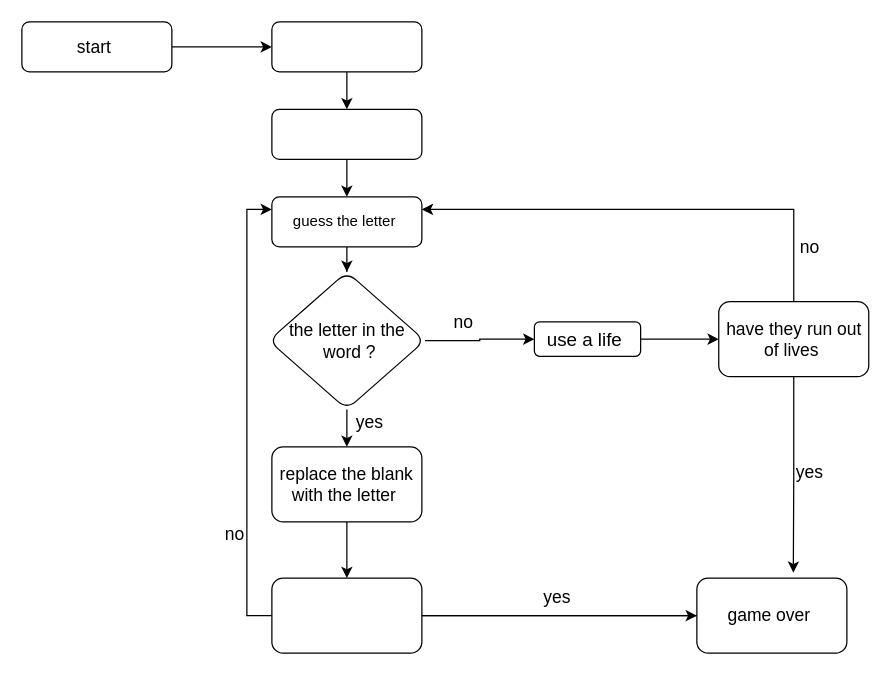
The diagram is 891 pixels wide and 675 high, and some of its shapes have lost their labels. The shapes that lost their labels are listed below. From the top down, each one's box as (x1, y1, x2, y2) in pixels, then its label:
(271, 21, 422, 72): generate a random word
(271, 108, 422, 159): create that many blanks
(271, 577, 422, 653): is all the blanks filled
